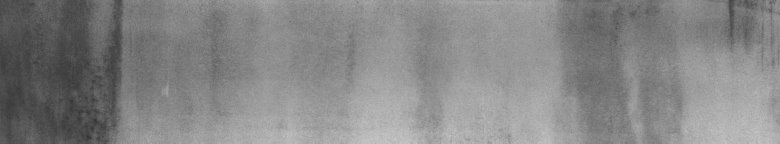ka: (721, 4, 776, 44)
